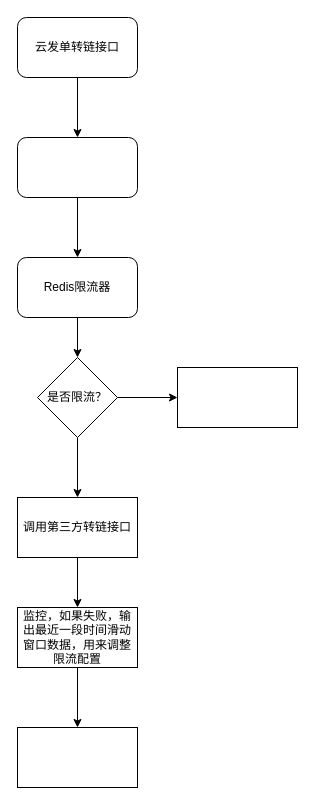
This 315x805 diagram has some shape labels left out. The centre of each missing label's shape, as x and y in pixels:
获取限流配置，分渠道: point 77,167
返回转链数据: point 77,757
返回限流: point 237,397
